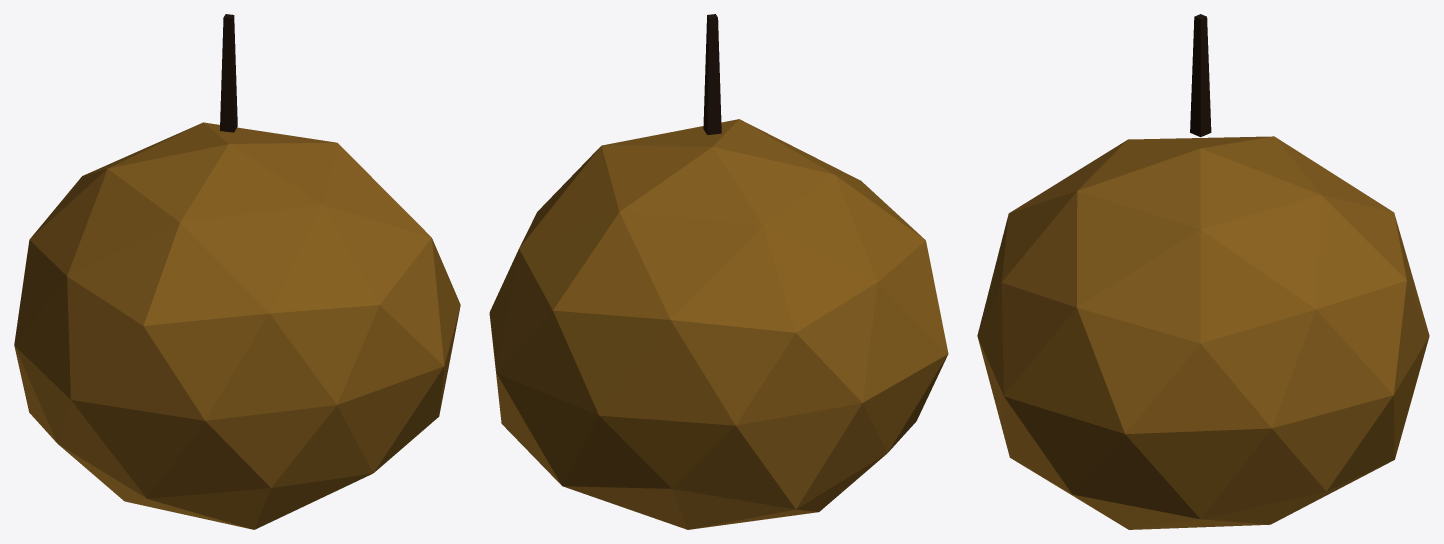
File: haystack.fbx
The picture shows the model from 3 angles, left to right: view 1: azimuth 30°, elevation 25°; view 2: azimuth 150°, elevation 25°; view 3: azimuth 270°, elevation 25°; orthographic projection. The views are drawn at different scales.
Parts seen in each view (by area): view 1: haystack; view 2: haystack; view 3: haystack.
Boxes of the visible parts, left/top/right/bottom form: haystack: left=14, top=14, right=460, bottom=529; haystack: left=489, top=14, right=948, bottom=529; haystack: left=977, top=14, right=1429, bottom=529.
Size of the model in its own units: 2.17 by 2.62 by 2.12.
